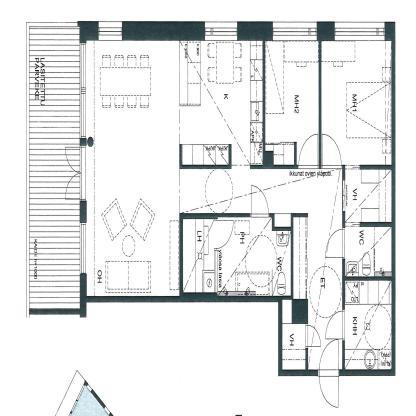bathroom: (181, 214, 293, 297), (344, 222, 394, 278)
door: (318, 339, 342, 411), (64, 144, 88, 206), (320, 132, 344, 174), (297, 132, 321, 173), (325, 226, 347, 263), (249, 182, 270, 218), (324, 310, 347, 341), (304, 324, 322, 351)
perimeter: (79, 24, 394, 376)
window: (333, 18, 386, 46), (272, 18, 319, 46), (202, 18, 240, 44), (96, 18, 126, 45)
